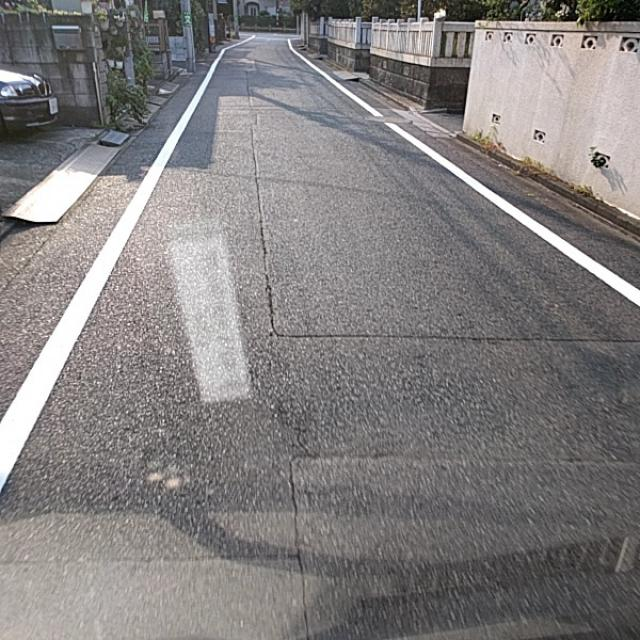pothole: (225, 287, 312, 475)
